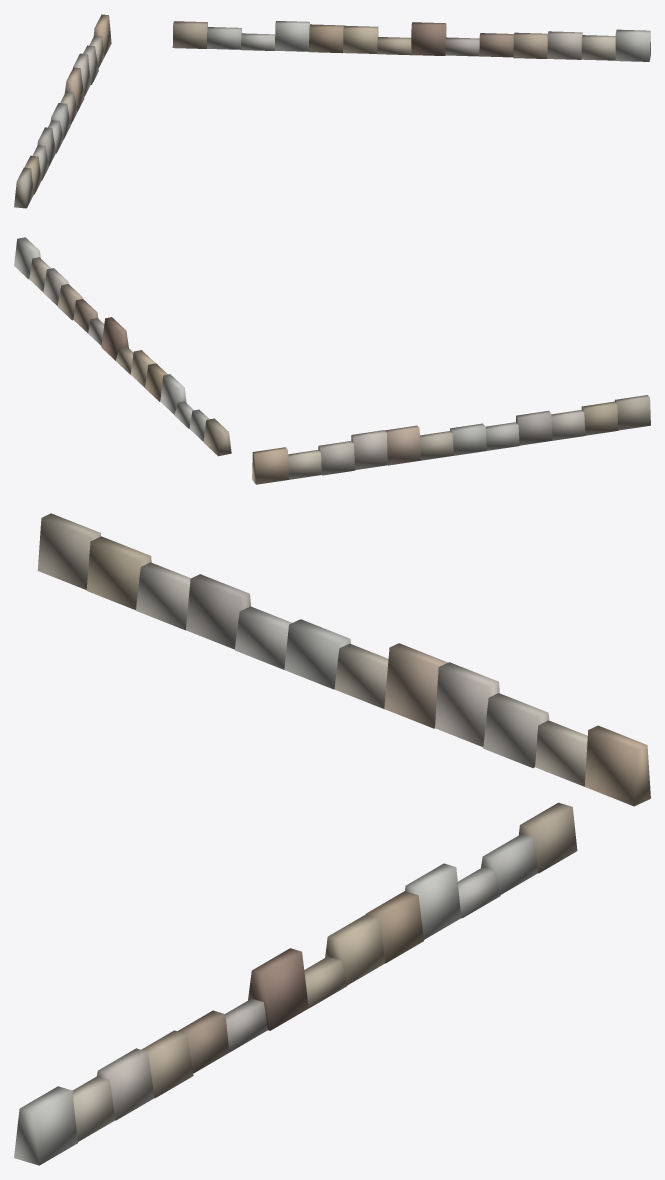
File: farm_-37_-40_collision.glb
3 renders of one model, top to bottom at view 1: azimuth 30°, elevation 25°; view 2: azimuth 150°, elevation 25°; view 3: azimuth 270°, elevation 25°, orthographic. The views are drawn at different scales.
Visible parts, largest first — view 1: geometry_0; view 2: geometry_0; view 3: geometry_0.
Part boxes in pixels (x1,y1,x2,y2): geometry_0: [14, 14, 650, 208]; geometry_0: [14, 237, 650, 484]; geometry_0: [14, 513, 650, 1165].
Bounding box in the file's own units: 33.55 × 1.63 × 14.96.
